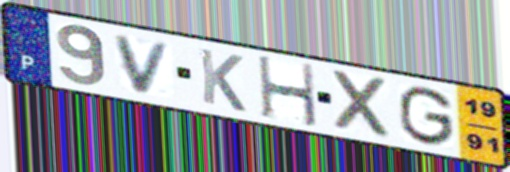9: (54, 23, 109, 88)
G: (396, 85, 456, 150)
H: (255, 53, 320, 130)
K: (196, 45, 248, 115)
V: (112, 33, 176, 97)
X: (329, 67, 395, 142)
